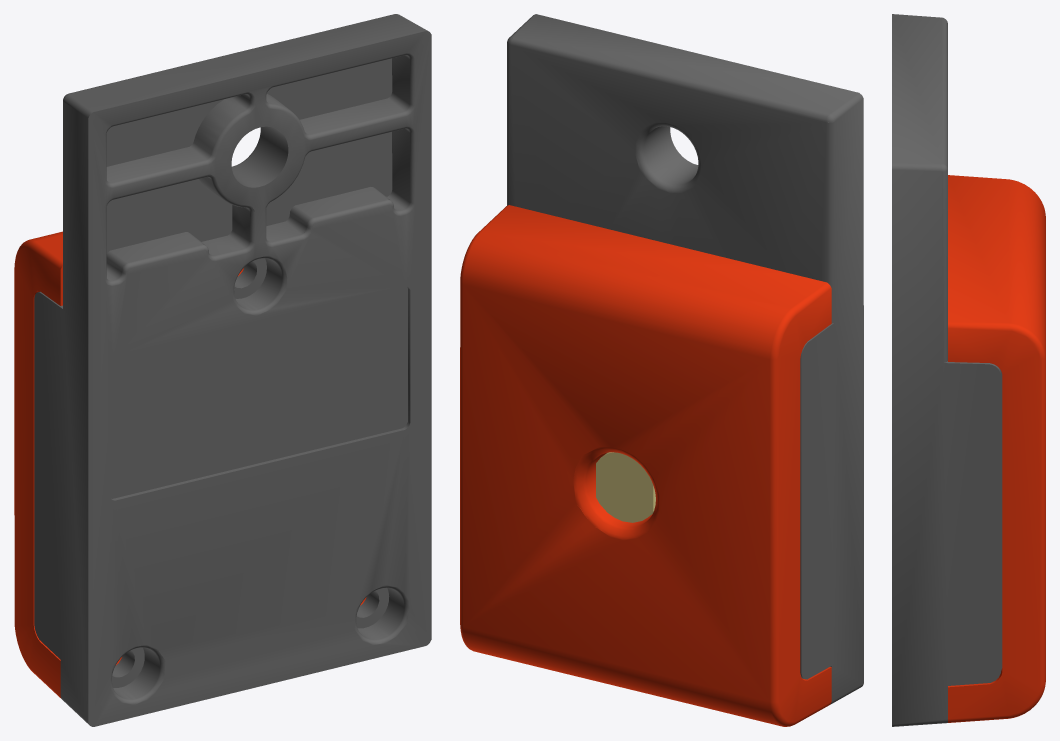
File: Light_Sensor__276-2158_.glb
3 views of the same model, side by side, from view 1: azimuth 30°, elevation 25°; view 2: azimuth 150°, elevation 25°; view 3: azimuth 270°, elevation 25° (orthographic). The views are drawn at different scales.
Visible parts, largest first — view 1: Light Sensor (276-2158); view 2: Light Sensor (276-2158); view 3: Light Sensor (276-2158).
Boxes of the visible parts, <box> form: Light Sensor (276-2158): <box>14,14,431,726</box>; Light Sensor (276-2158): <box>460,14,863,726</box>; Light Sensor (276-2158): <box>892,14,1045,726</box>.
Size of the model in its own units: 1.02 by 1.79 by 0.4331.
